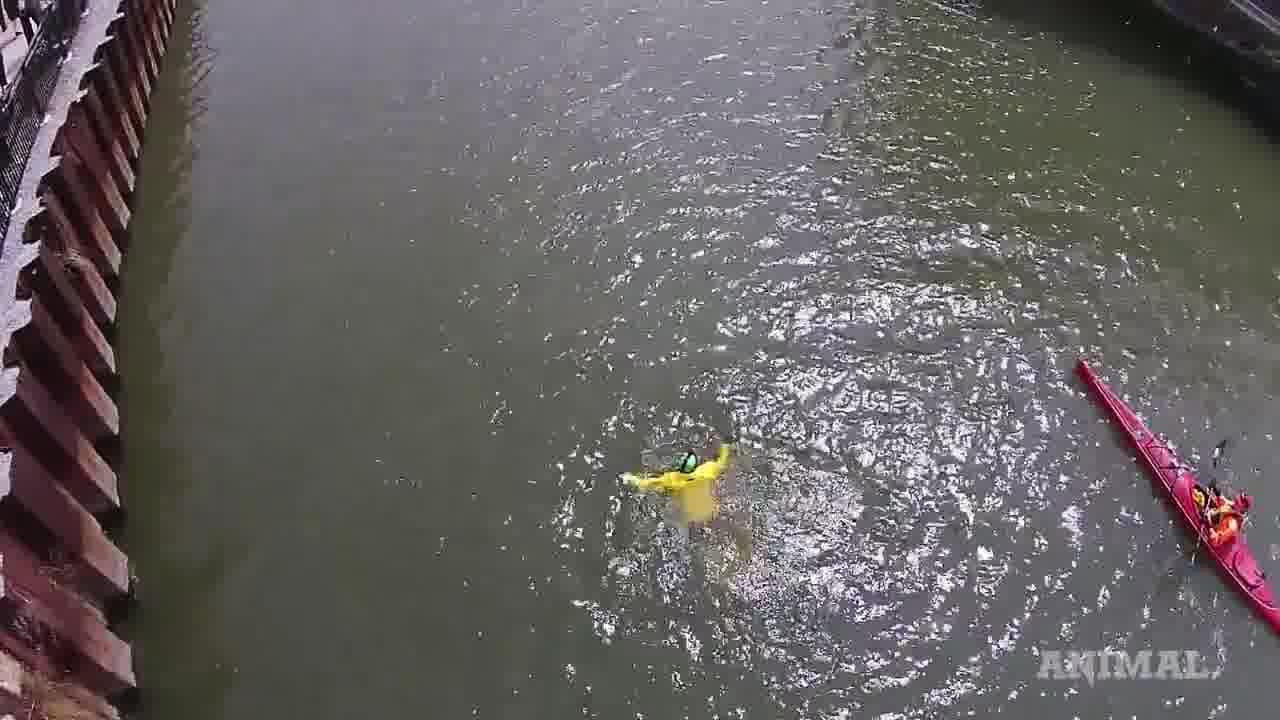human: (640, 439, 742, 530)
